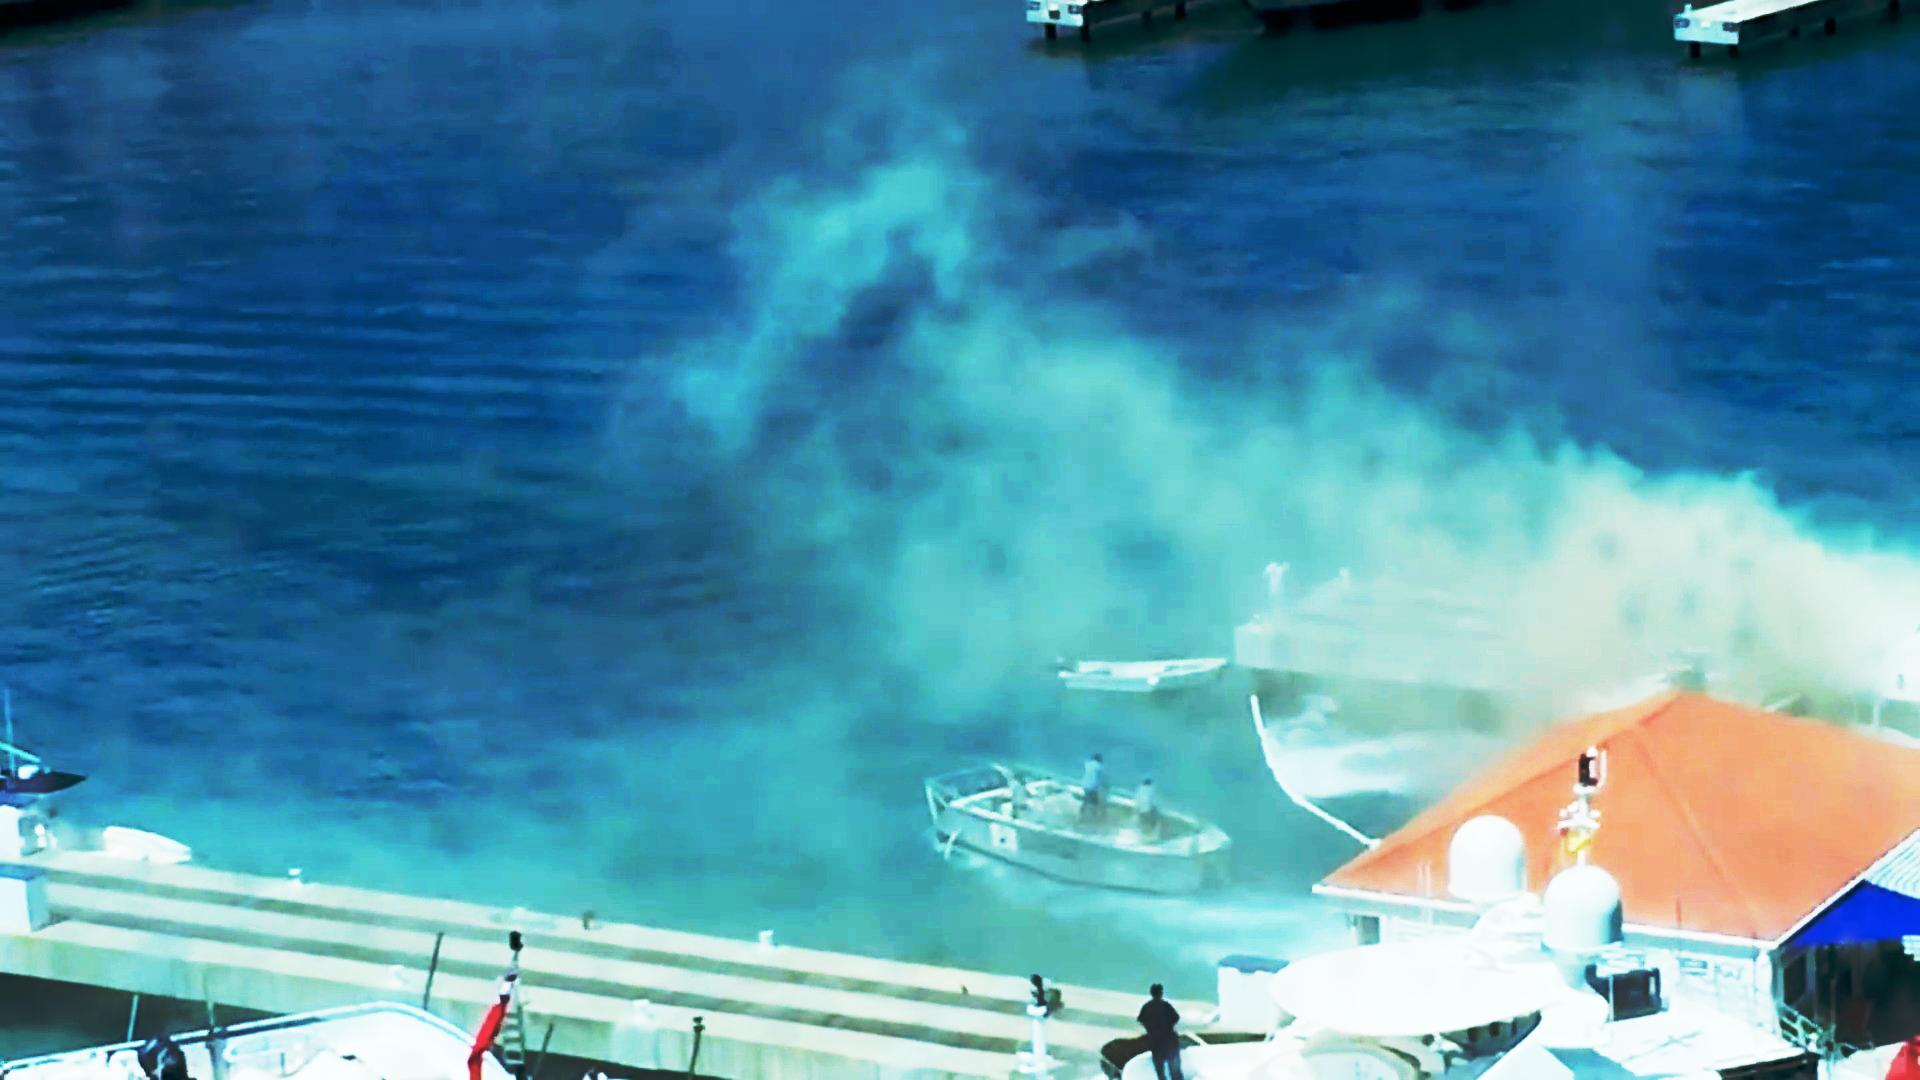smoke: (1440, 446, 1920, 712)
